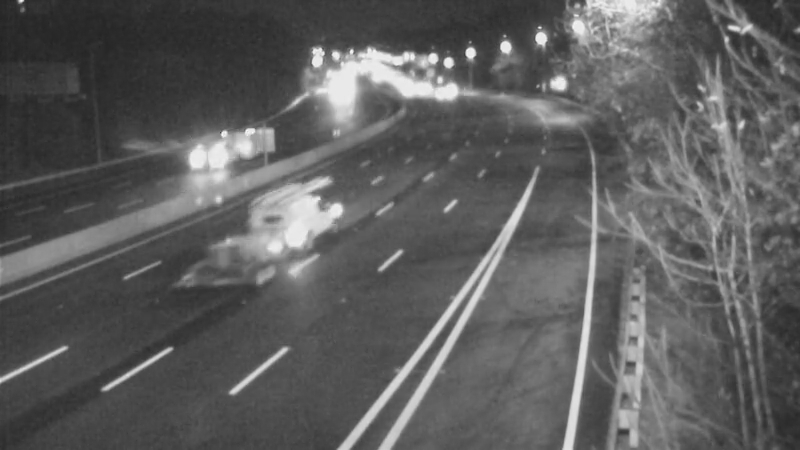vehicle: (229, 187, 309, 267), (179, 113, 259, 193)
